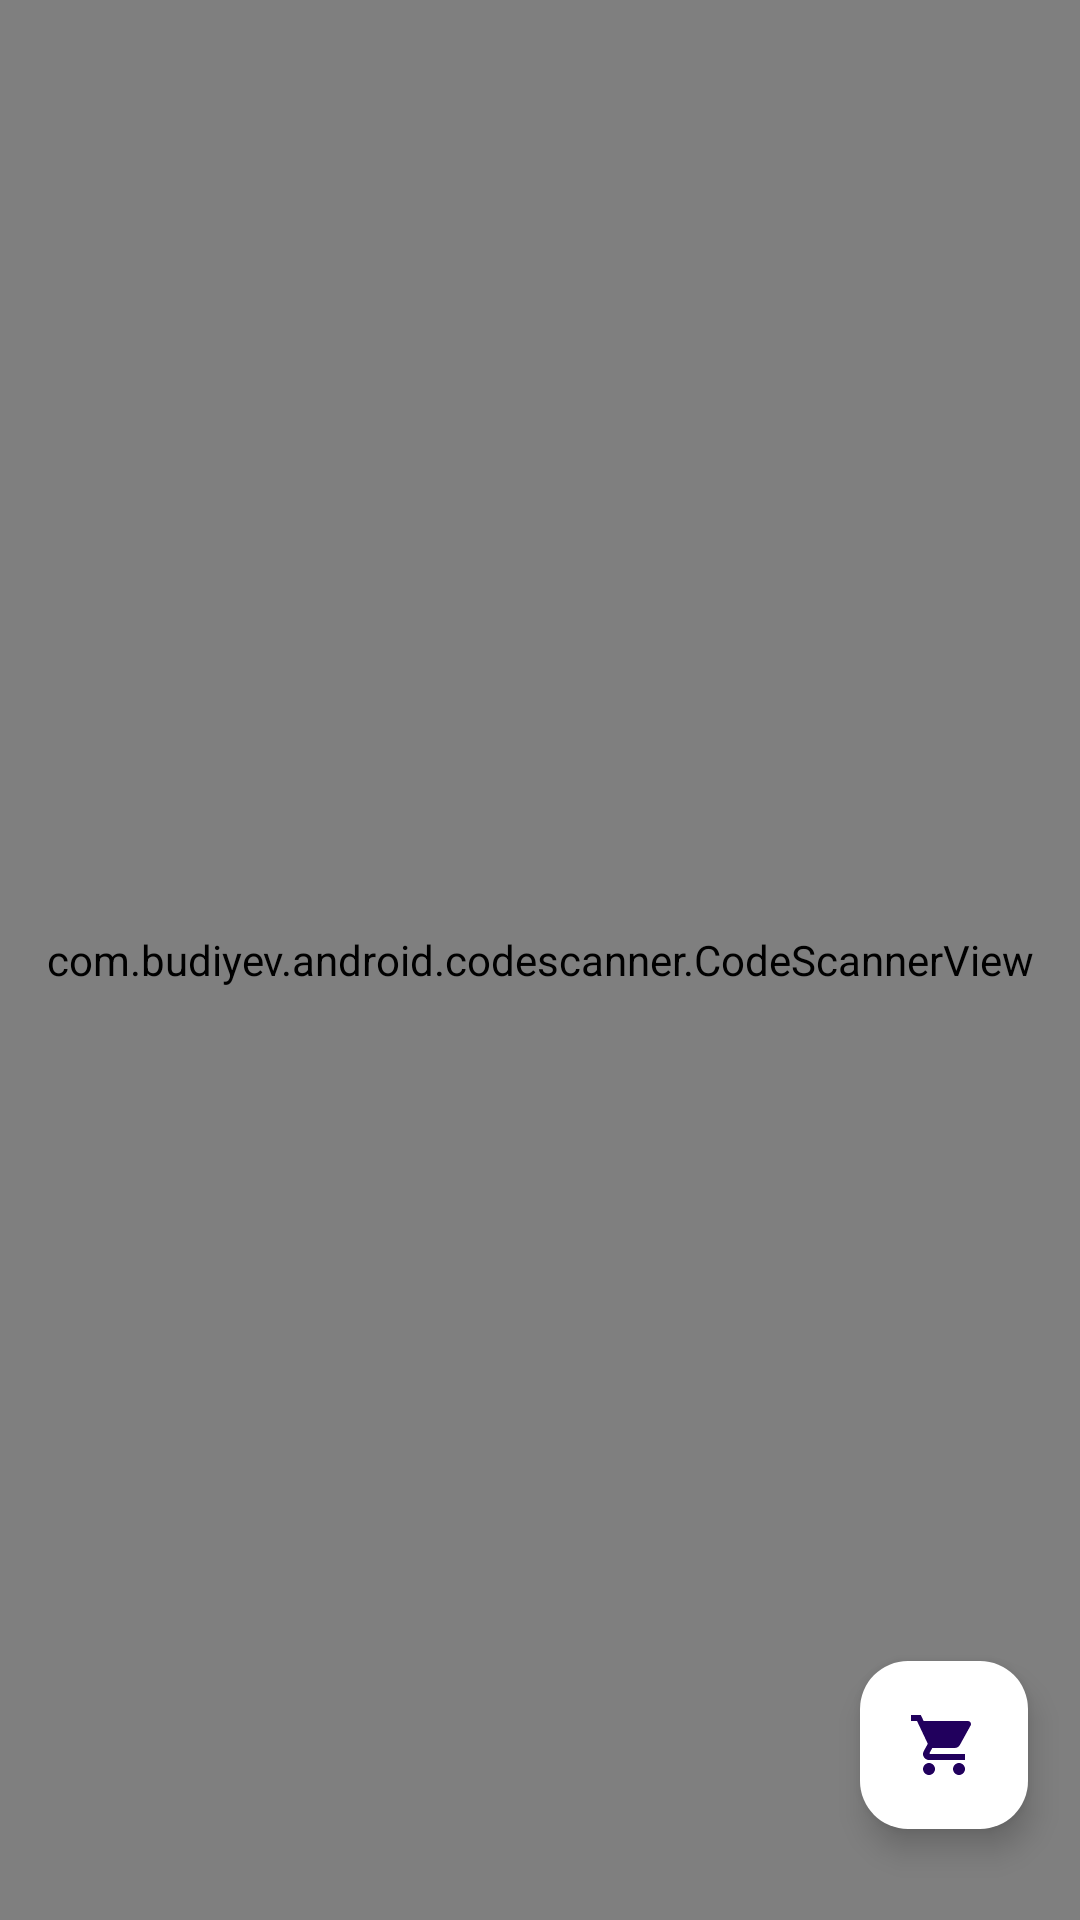

Icon bounding boxes for this 1080*1920 phone screenshot, format BBox(x1, y1, x2, y2):
shop: BBox(860, 1661, 1028, 1829)
